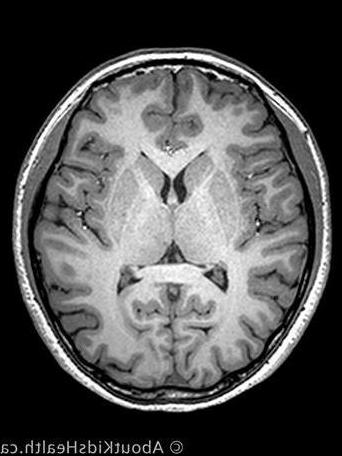Normal_Brain: (1, 1, 342, 456)
